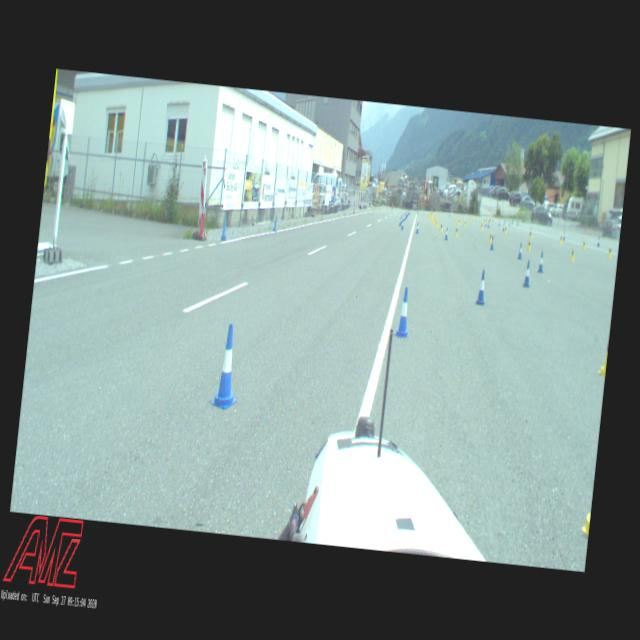blue_cone: (210, 322, 243, 410), (393, 287, 413, 338), (475, 269, 488, 305), (522, 260, 532, 287), (537, 251, 545, 272), (517, 242, 523, 258), (444, 227, 449, 240), (490, 235, 494, 250), (400, 218, 404, 230), (415, 222, 419, 232), (398, 217, 402, 226), (597, 236, 600, 246), (400, 215, 402, 224), (402, 213, 404, 220)
yellow_cone: (526, 238, 532, 250), (570, 246, 575, 260), (608, 245, 612, 258), (488, 231, 492, 243), (454, 224, 458, 236), (582, 238, 586, 249), (463, 218, 466, 226), (481, 222, 484, 230), (435, 220, 438, 228), (504, 226, 507, 233), (440, 222, 442, 232), (560, 233, 562, 243)
